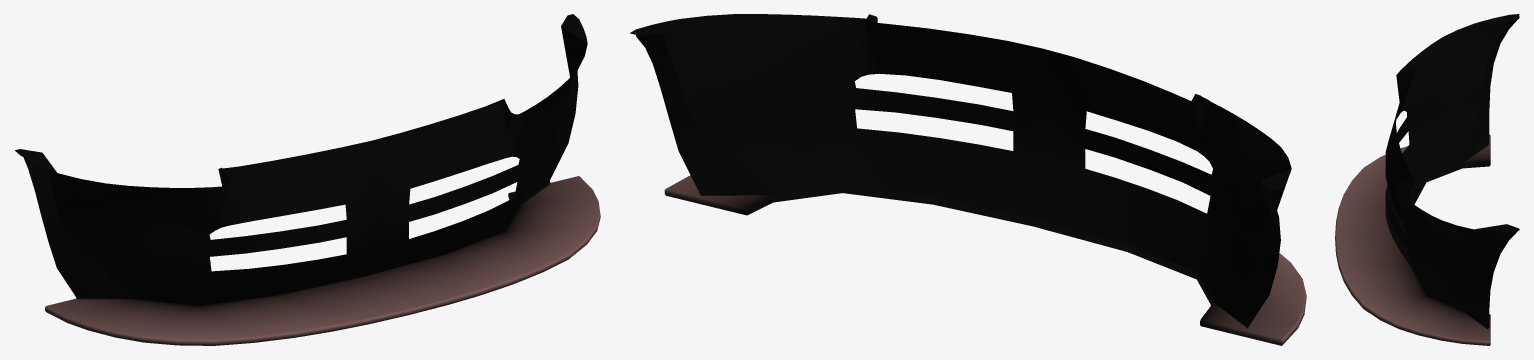
The model's file is Viper_FB_04_Trim.fbx.
The picture shows the model from 3 angles, left to right: view 1: azimuth 30°, elevation 25°; view 2: azimuth 150°, elevation 25°; view 3: azimuth 270°, elevation 25°; orthographic projection. The views are drawn at different scales.
Parts seen in each view (by area): view 1: Viper_FB_04_Trim; view 2: Viper_FB_04_Trim; view 3: Viper_FB_04_Trim.
Part boxes in pixels (left/top/right/bottom): Viper_FB_04_Trim: left=15, top=14, right=600, bottom=345; Viper_FB_04_Trim: left=630, top=14, right=1306, bottom=345; Viper_FB_04_Trim: left=1335, top=14, right=1519, bottom=345.
Bounding box in the file's own units: 182 × 47.07 × 65.53.
